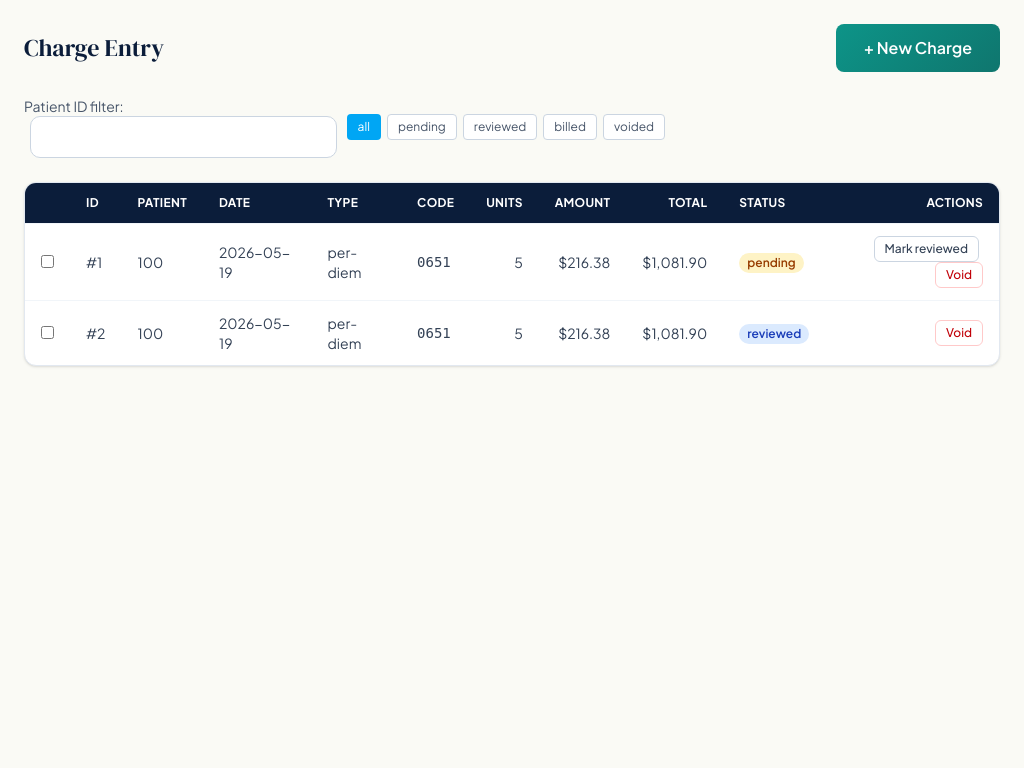
Test: ChargeEntryPage › shows the attach-to-claim strip after selection and submits
Expected: the text "#1" is shown, [70,224,122,300]
Click the checkbox named "Select charge 1" at (48, 262), box [41,255,54,268]
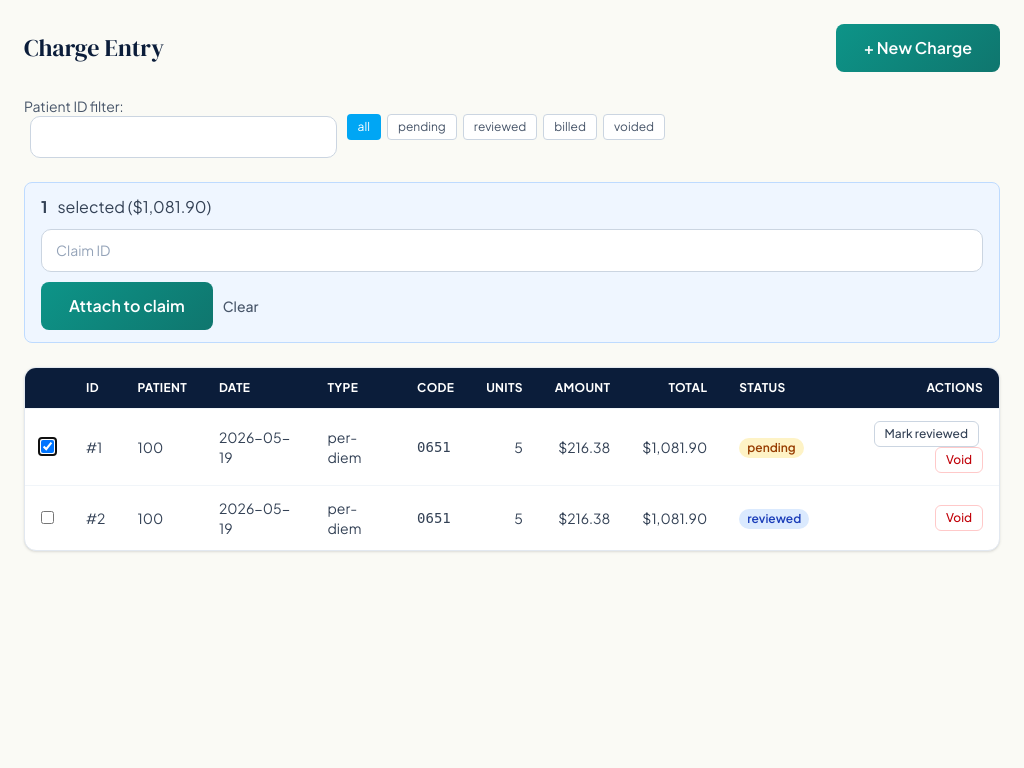
Click the checkbox named "Select charge 2" at (48, 518), box [41,511,54,524]
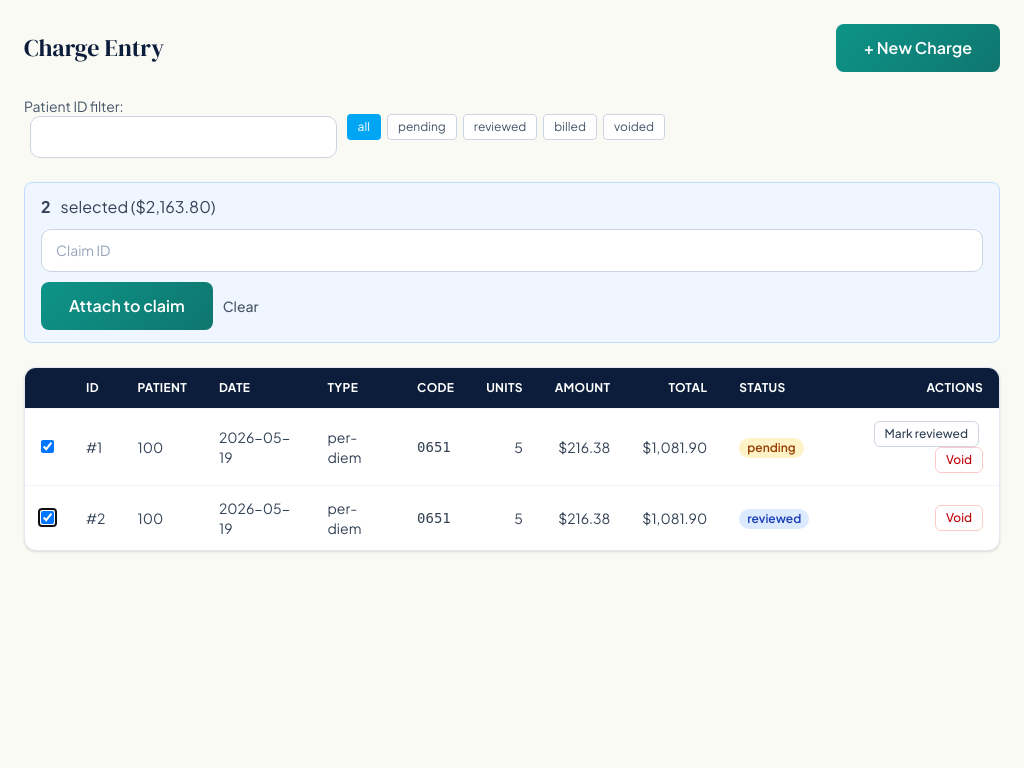
Type "77" into the field with placeholder "Claim ID" at (512, 250), box [41,229,983,272]
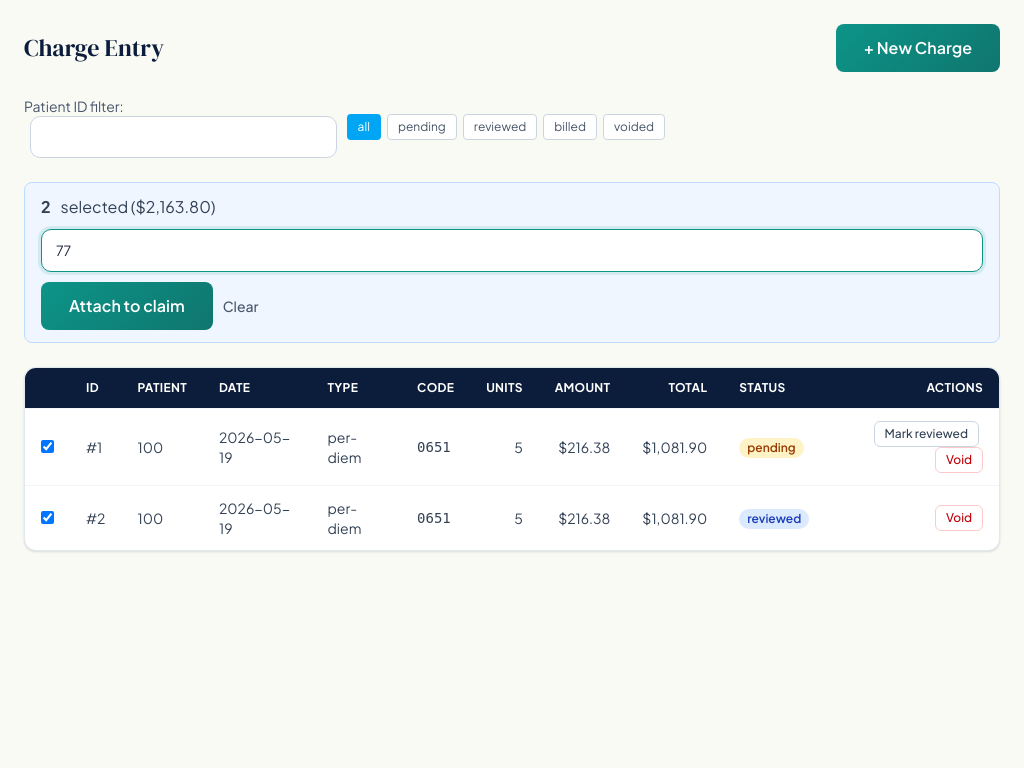
Click the button "Attach to claim" at (127, 306), box [41,282,213,330]
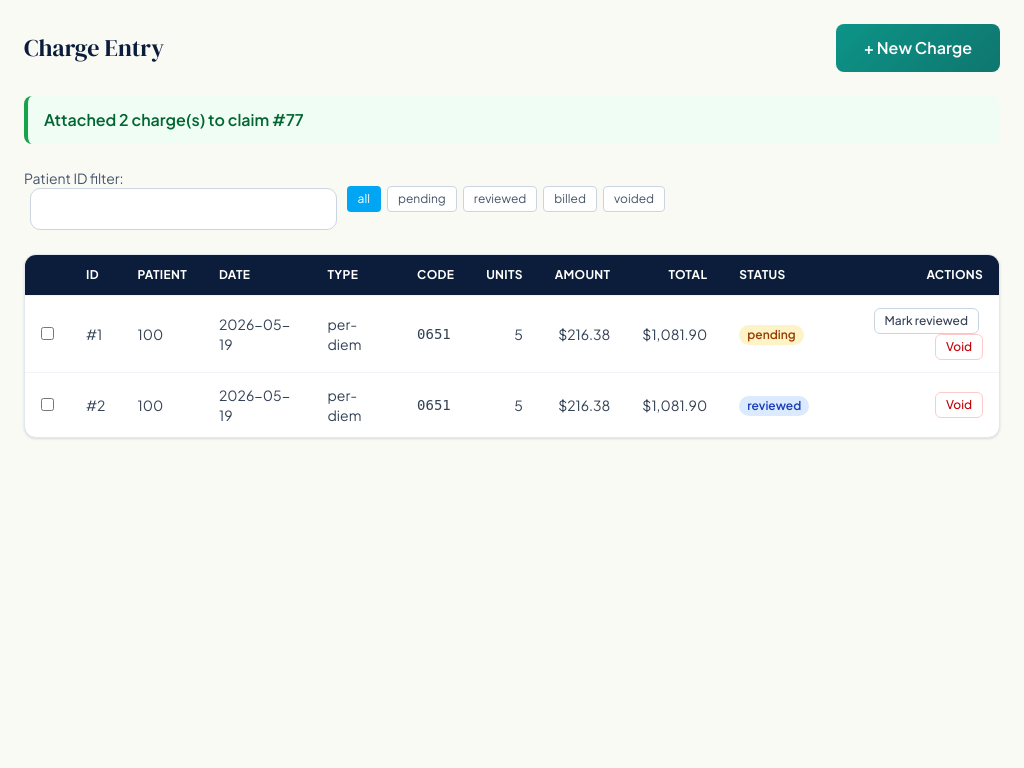
Expected: the text "Attached 2 charge(s) to claim #77" is shown, [24,96,1000,144]
